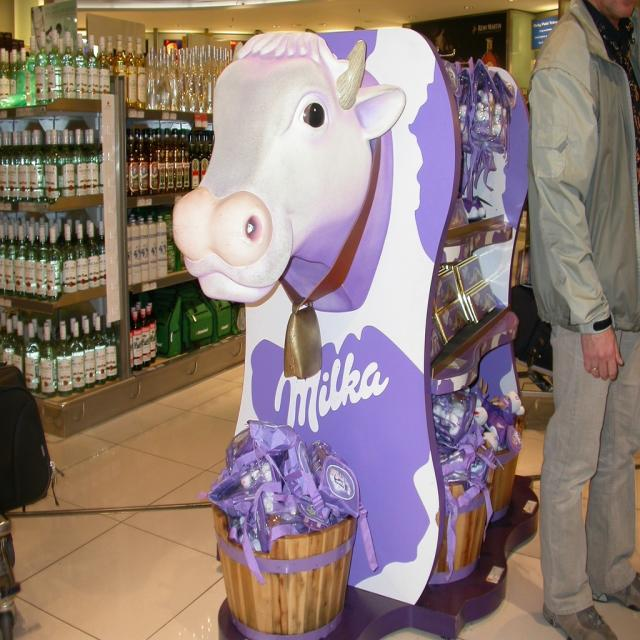milka: (272, 351, 394, 433)
